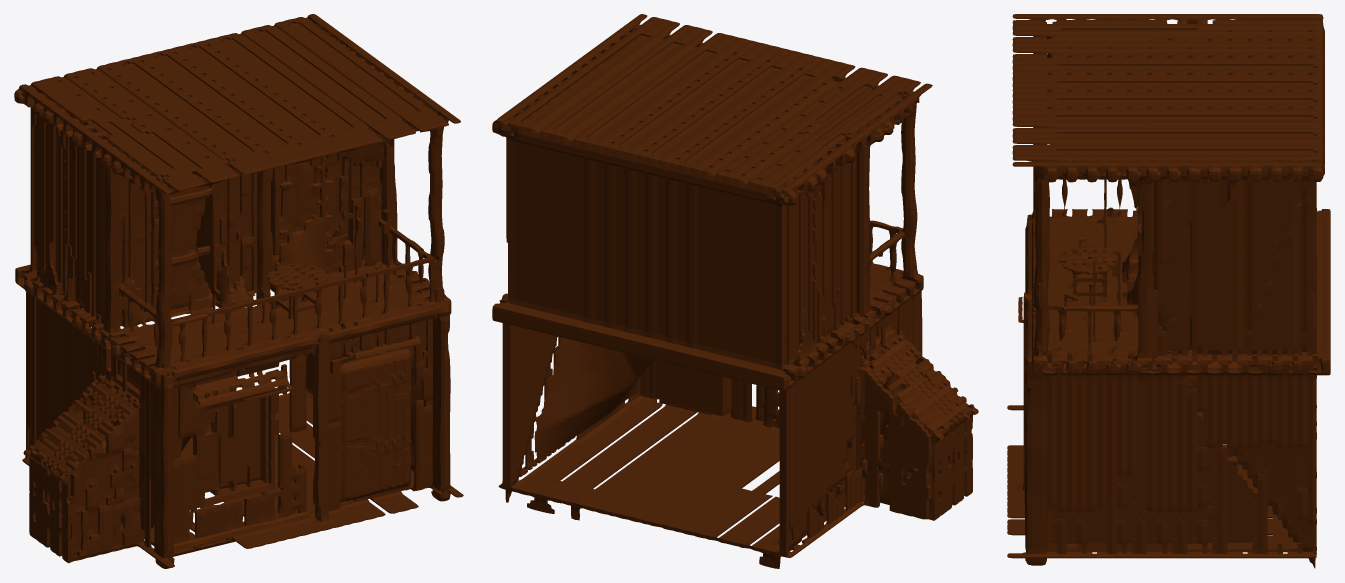
Rendered from House4LOD1.fbx.
3 renders of one model, left to right at view 1: azimuth 30°, elevation 25°; view 2: azimuth 150°, elevation 25°; view 3: azimuth 270°, elevation 25°, orthographic. The views are drawn at different scales.
Visible parts, largest first — view 1: Plane.041; view 2: Plane.041; view 3: Plane.041.
Part boxes in pixels (<box>): Plane.041: <box>14,14,463,568</box>; Plane.041: <box>492,14,978,568</box>; Plane.041: <box>1007,14,1330,568</box>.
Bounding box in the file's own units: 820 × 812 × 582.
